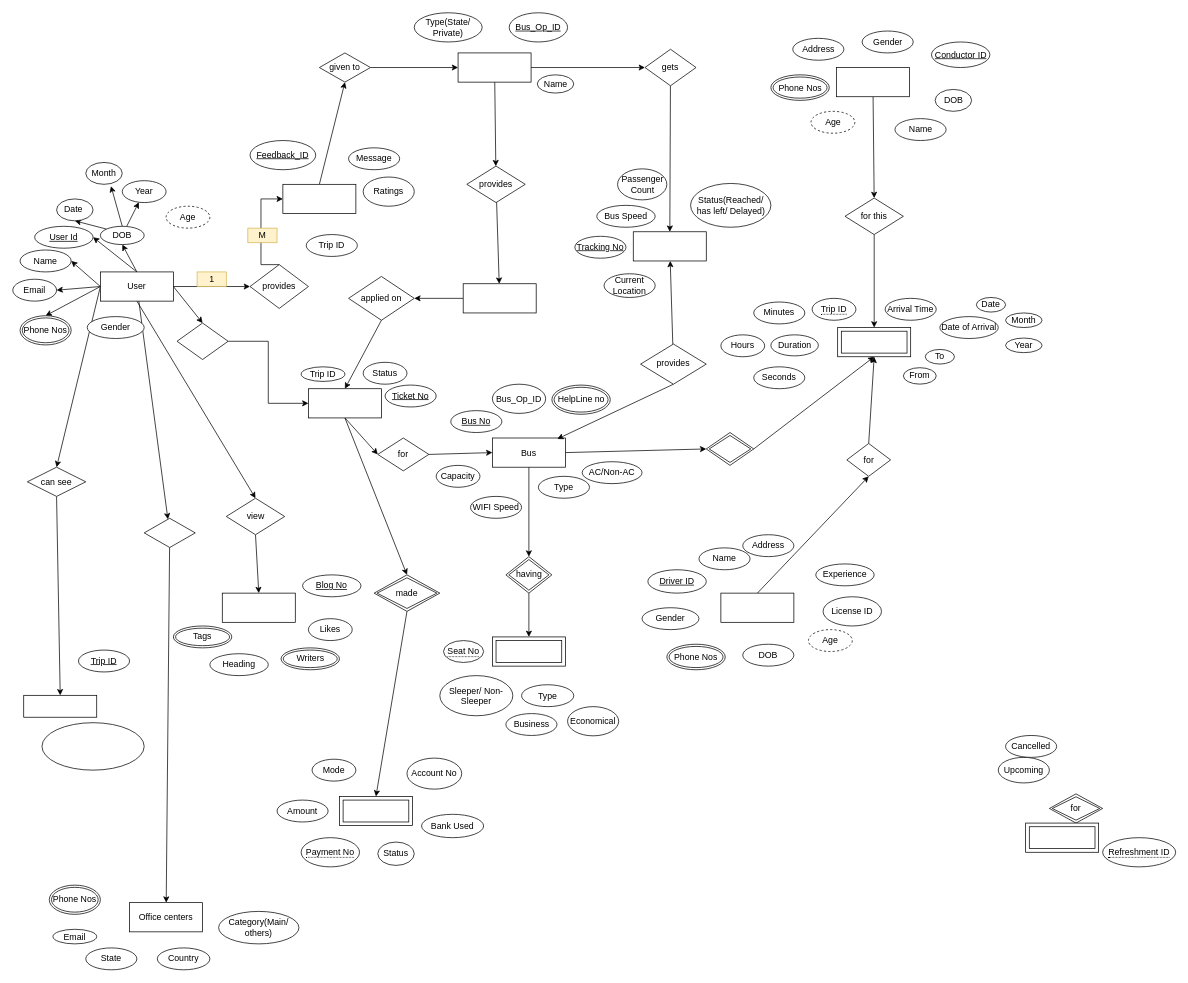
The diagram is 1188 pixels wide and 983 high, and some of its shapes have lost their labels. The shapes that lost their labels are listed below. From the top down, each one's centre as x and y in pixels, then its label:
At point 494,67: "Bus Operator".
At point 873,82: "Conductor".
At point 319,199: "Feedback".
At point 669,246: "Bus Tracking Info".
At point 499,298: "discount / offers / exclusive deals".
At point 202,341: "books".
At point 874,342: "Trip Info".
At point 344,403: "Ticket".
At point 730,448: "has".
At point 169,533: "contact".
At point 258,607: "Travel Blogs".
At point 757,607: "Driver".
At point 528,651: "Seat".
At point 60,706: "My Trips".
At point 92,746: "Status(Upcoming/ Cancelled / Completed".
At point 375,811: "Payment".
At point 1062,837: "Refreshments".
